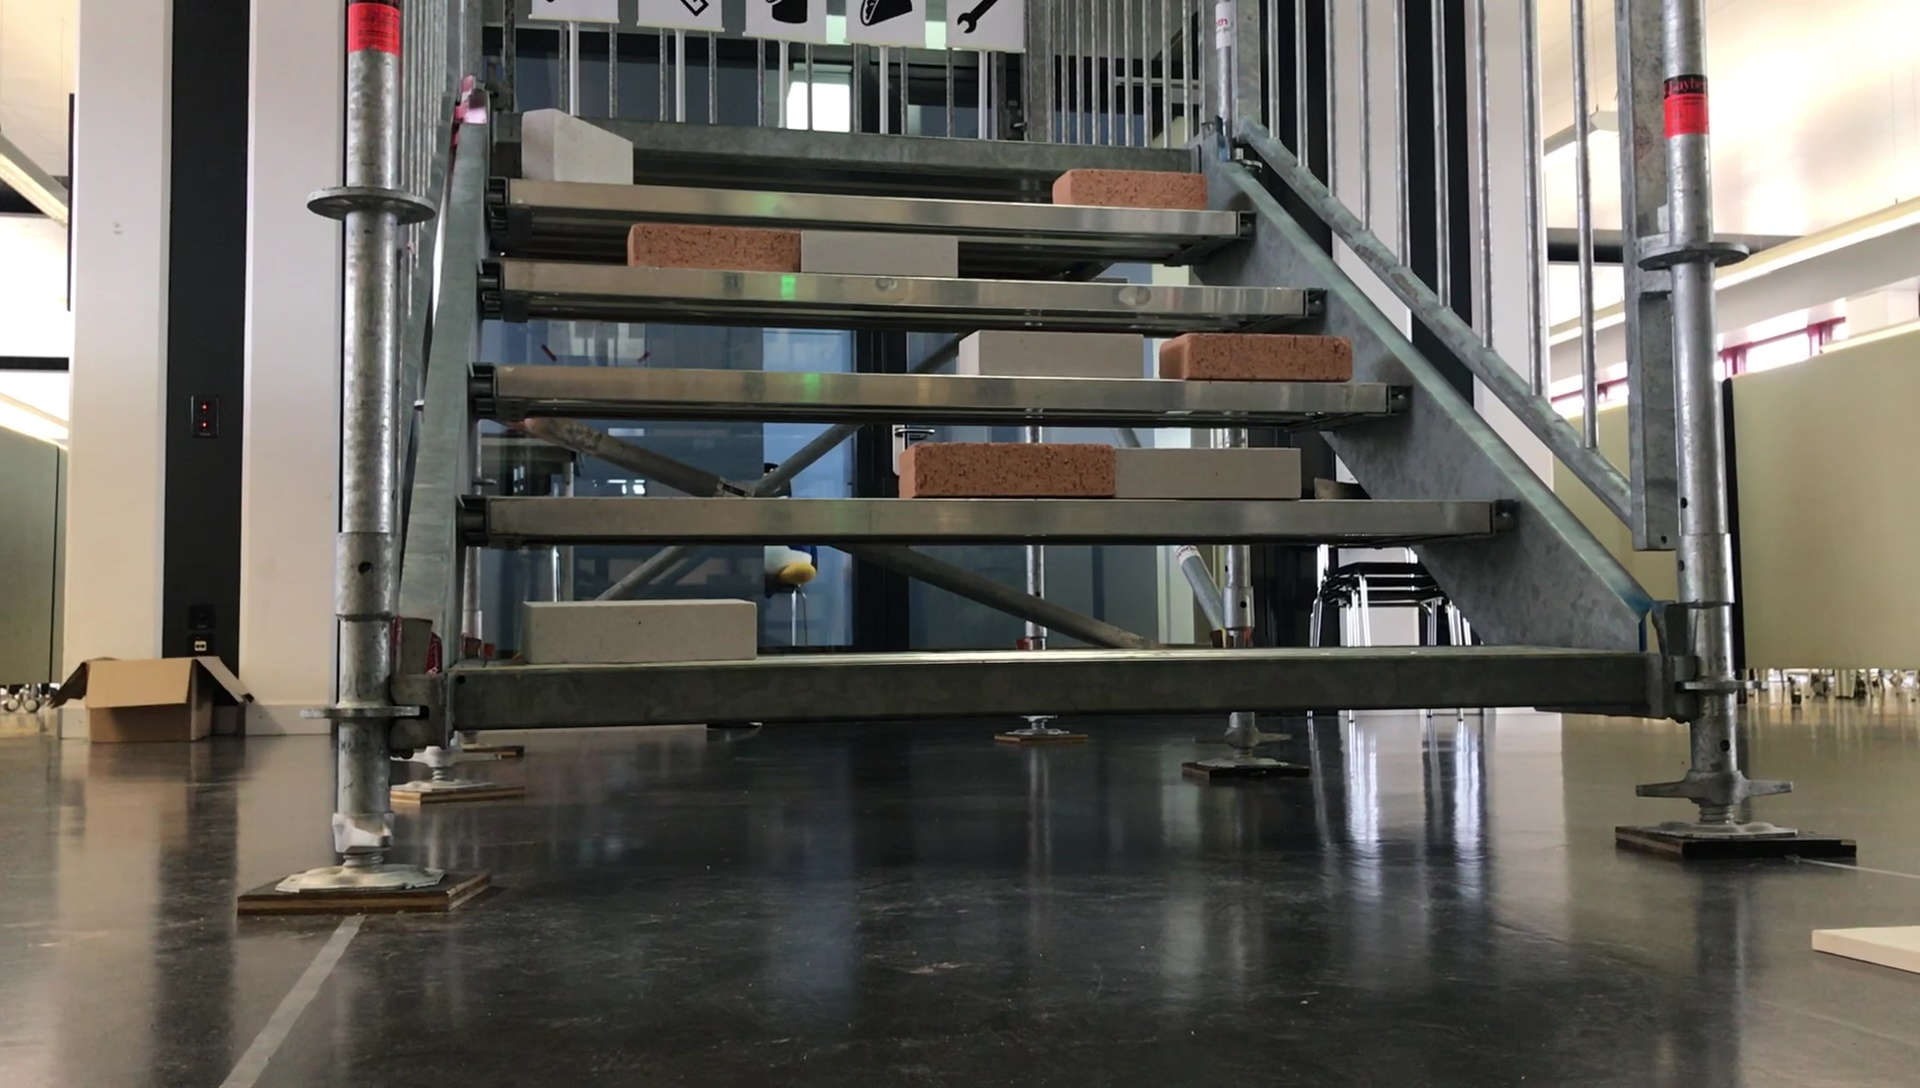brick: (520, 583, 767, 667), (1164, 323, 1365, 385), (951, 326, 1153, 382), (1113, 434, 1305, 492), (905, 443, 1113, 491), (522, 106, 636, 181), (1048, 164, 1222, 210), (626, 222, 799, 262), (803, 229, 963, 266), (955, 0, 1013, 42)
edge: (438, 648, 1677, 732), (458, 496, 1528, 546), (481, 363, 1424, 419), (491, 179, 1247, 244), (481, 281, 1335, 295), (518, 138, 1195, 150)
stairs: (342, 0, 1695, 907)
steps: (398, 113, 1656, 742)
taco: (856, 0, 905, 25)
